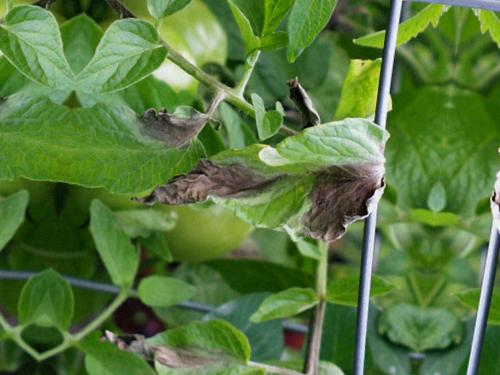Tomato leaf late blight: (131, 85, 395, 251), (58, 75, 222, 227), (90, 291, 274, 375)
